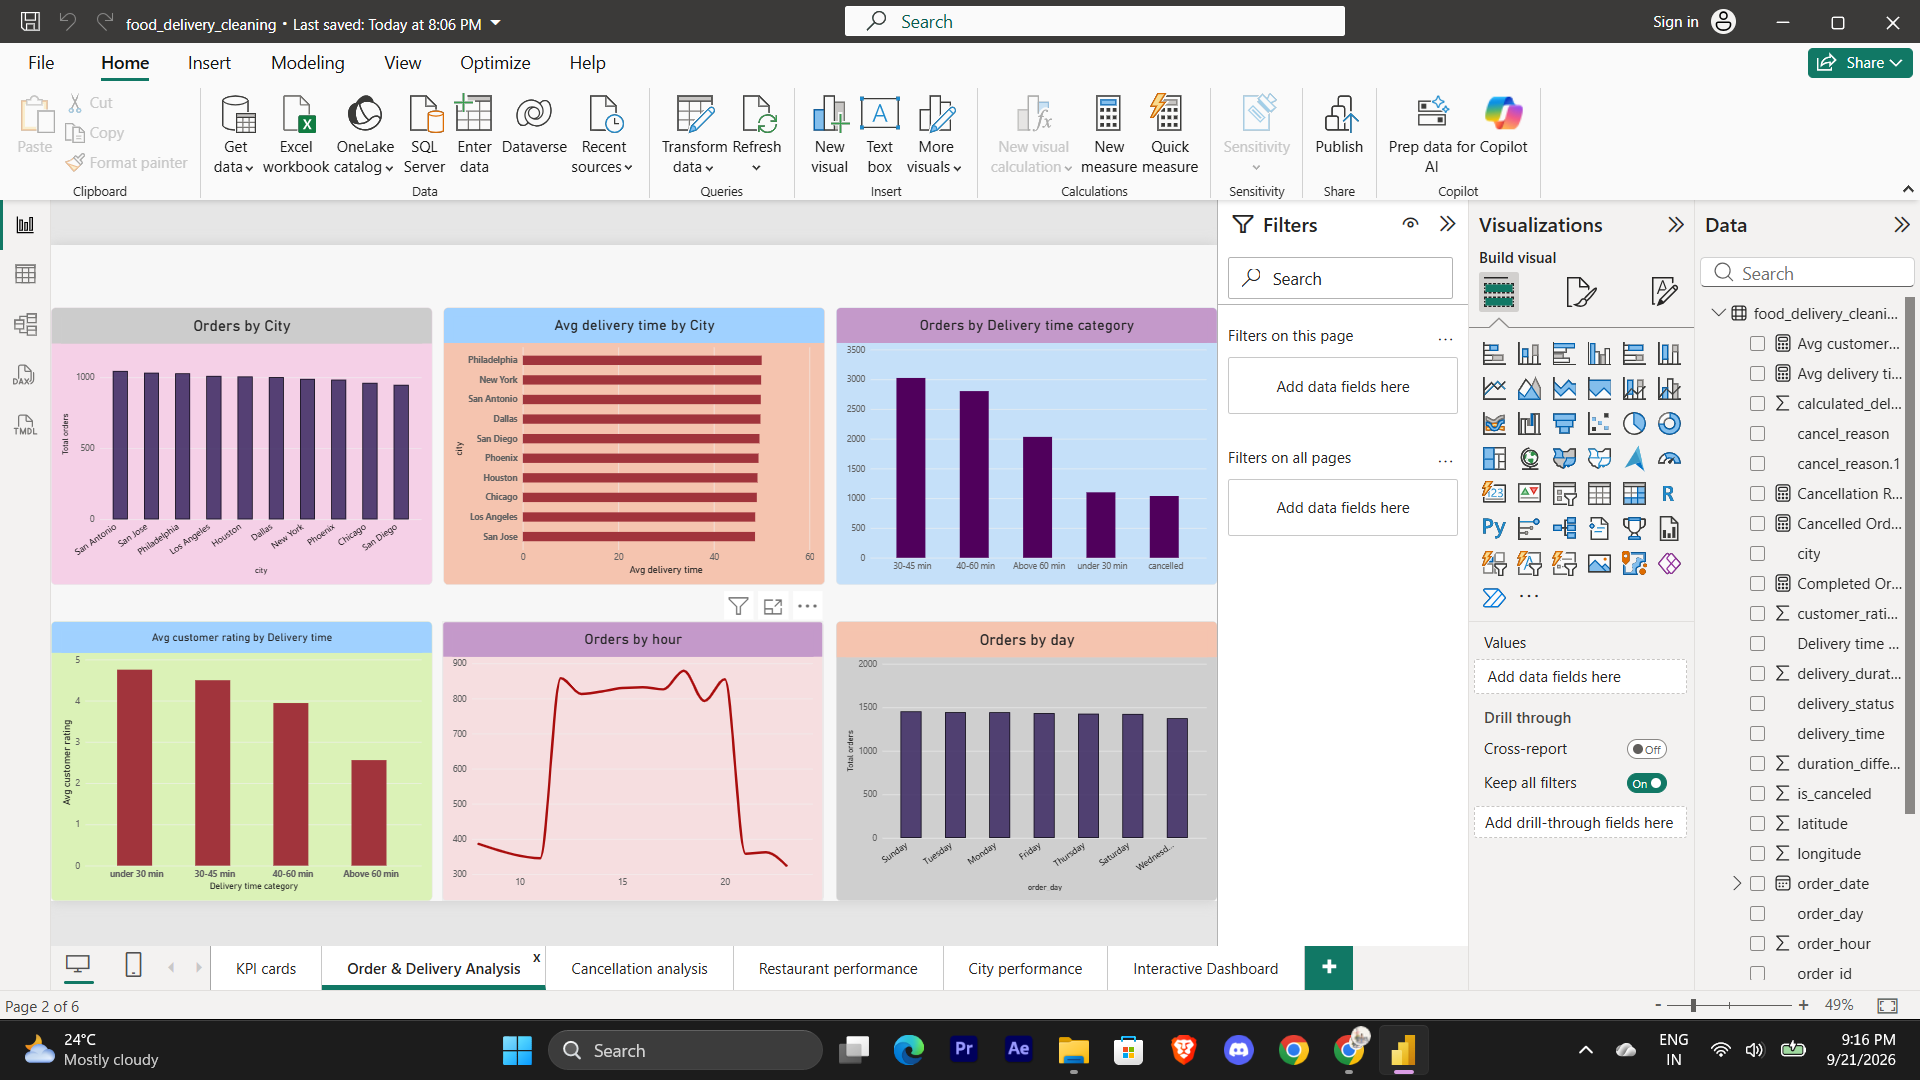

What the dashboard file says about the page in this screenshot:
{"tool":"powerbi","page":{"name":"Order & Delivery Analysis","canvas":[1920,1080],"ordinal":1},"visuals":[{"type":"clusteredColumnChart","title":"Orders by City","fields":{"Category":["food_delivery_cleaning.city"],"Y":["food_delivery_cleaning.Total orders"]},"box":[0,102.9,627.8,456.9],"z":0},{"type":"barChart","title":"Avg delivery time by City","fields":{"Category":["food_delivery_cleaning.city"],"Y":["food_delivery_cleaning.Avg delivery time"]},"box":[646.3,102.9,627.8,456.9],"z":1000},{"type":"columnChart","title":"Orders by Delivery time category","fields":{"Category":["food_delivery_cleaning.Delivery time category"],"Y":["food_delivery_cleaning.Total orders"]},"box":[1292.6,102.9,627.8,456.9],"z":2000},{"type":"columnChart","title":"Avg customer rating by Delivery time","fields":{"Category":["food_delivery_cleaning.Delivery time category"],"Y":["food_delivery_cleaning.Avg customer rating"]},"box":[0,619.6,627.8,461.1],"z":3000},{"type":"lineChart","title":"Orders by hour","fields":{"Category":["food_delivery_cleaning.order_hour"],"Y":["food_delivery_cleaning.Total orders"]},"box":[644.3,619.6,627.8,461.1],"z":4000},{"type":"clusteredColumnChart","title":"Orders by day","fields":{"Category":["food_delivery_cleaning.order_day"],"Y":["food_delivery_cleaning.Total orders"]},"box":[1292.6,619.6,627.8,461.1],"z":5000}]}

Visuals, with their boxes on the page's 1920x1080 design canvas (x1, y1, x2, y2). These are canvas units, not pixel positions in the 1920x1080 screenshot, which may show the page scaled, cropped or inside an application window:
"Orders by City" clusteredColumnChart: (0,103,628,560)
"Avg delivery time by City" barChart: (646,103,1274,560)
"Orders by Delivery time category" columnChart: (1293,103,1920,560)
"Avg customer rating by Delivery time" columnChart: (0,620,628,1081)
"Orders by hour" lineChart: (644,620,1272,1081)
"Orders by day" clusteredColumnChart: (1293,620,1920,1081)
